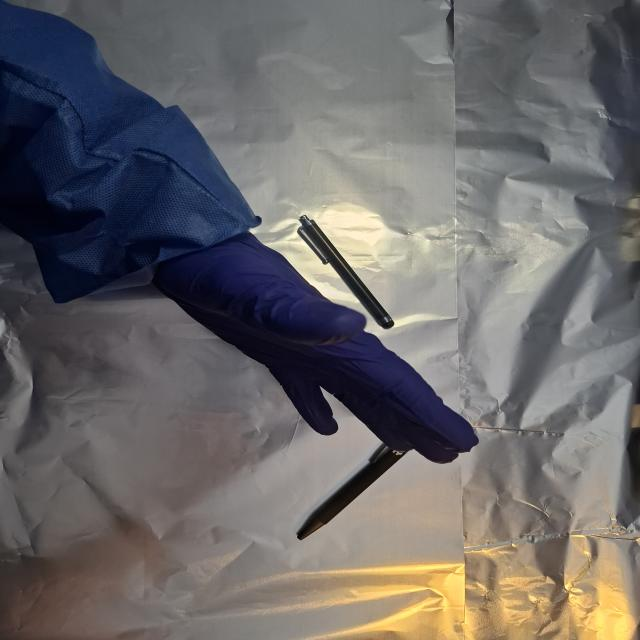glove_on: (149, 226, 482, 467)
